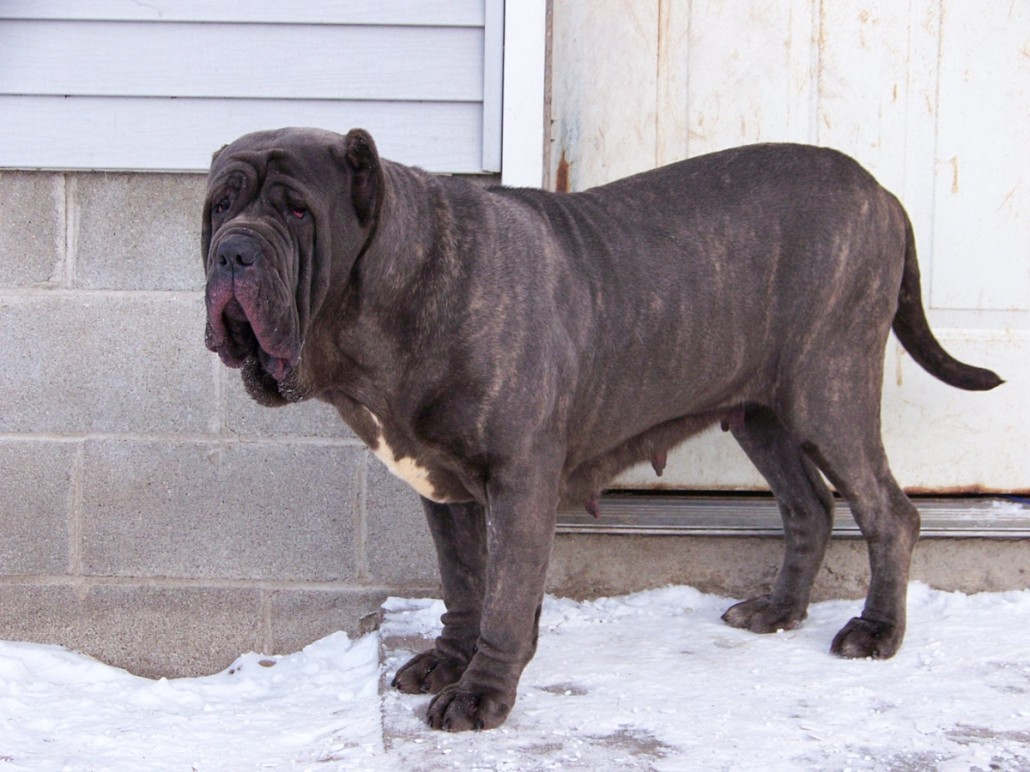neapolitan_mastiff: (200, 128, 1009, 733)
